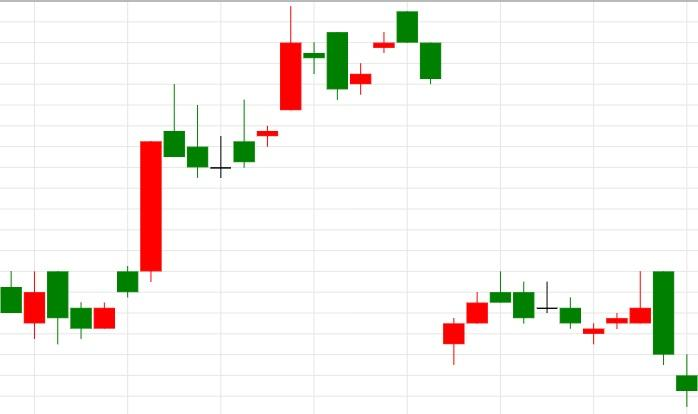bearish_engulfing_fall: (584, 271, 674, 365)
shooting_star_fall: (71, 84, 185, 339)
